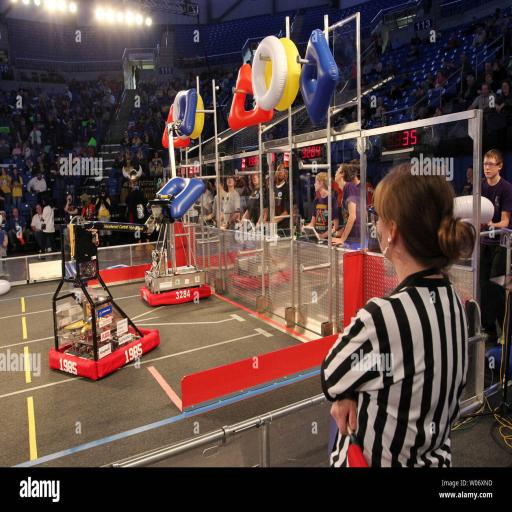robot: (43, 210, 160, 382), (132, 174, 210, 306)
